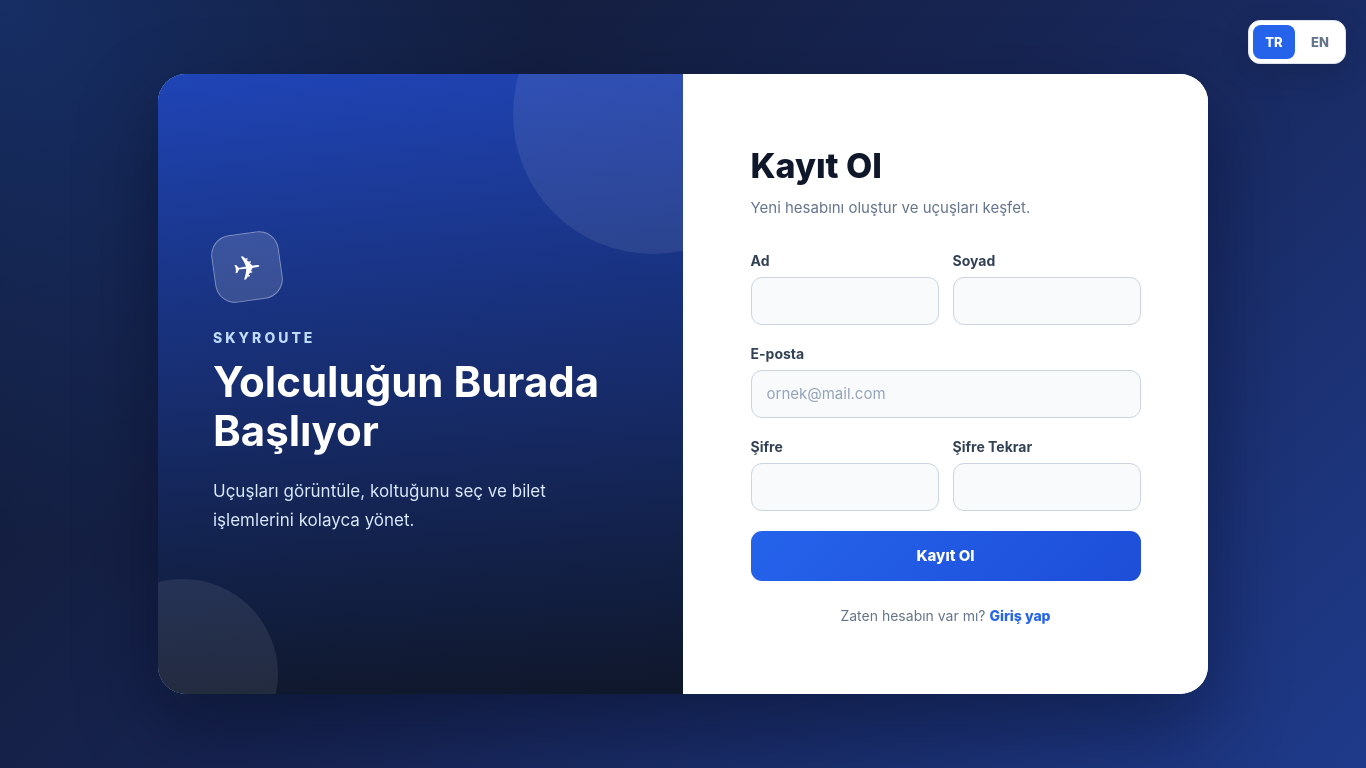
authentication flow › registers a user through the API and returns to login
Type "Umut" into the field labelled "Ad" at {"x": 844, "y": 300}, box [750,276,938,324]
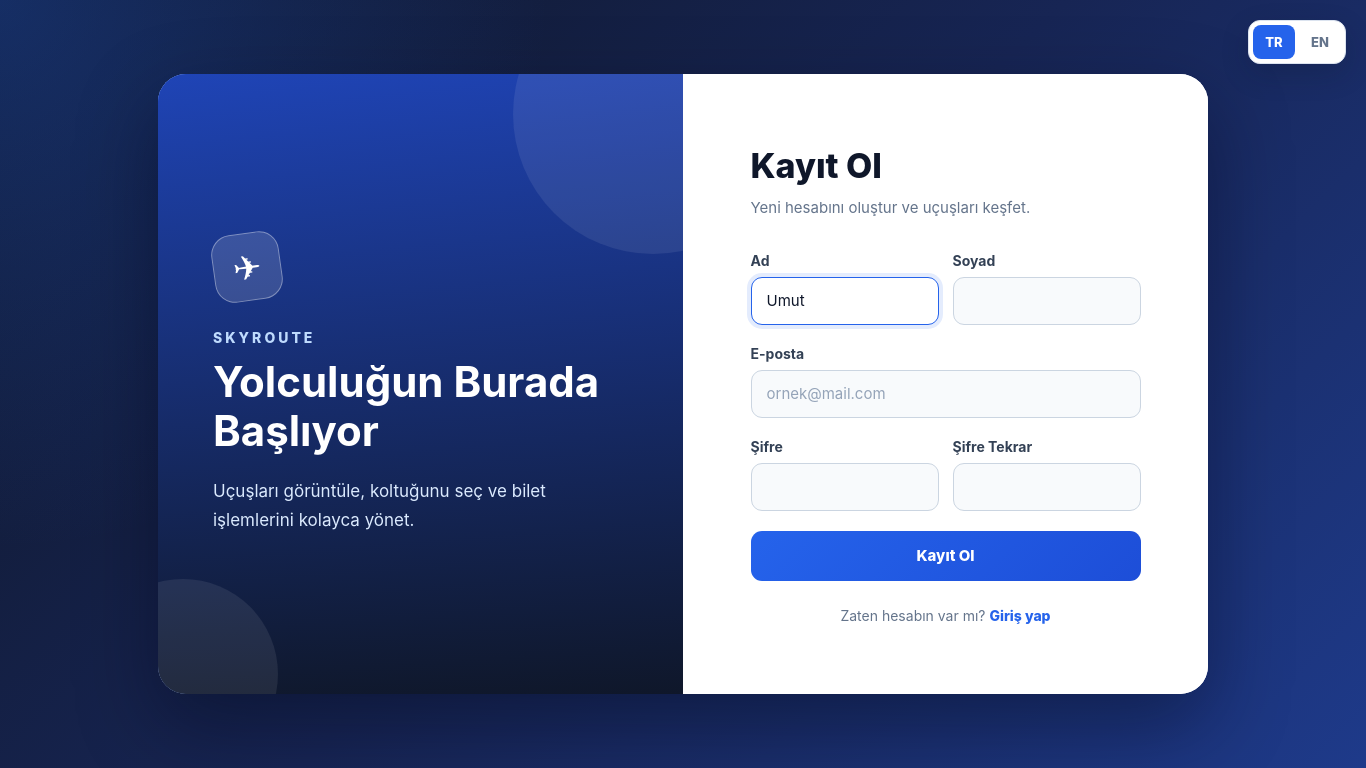
Type "Hata" into the field labelled "Soyad" at {"x": 1046, "y": 300}, box [952,276,1140,324]
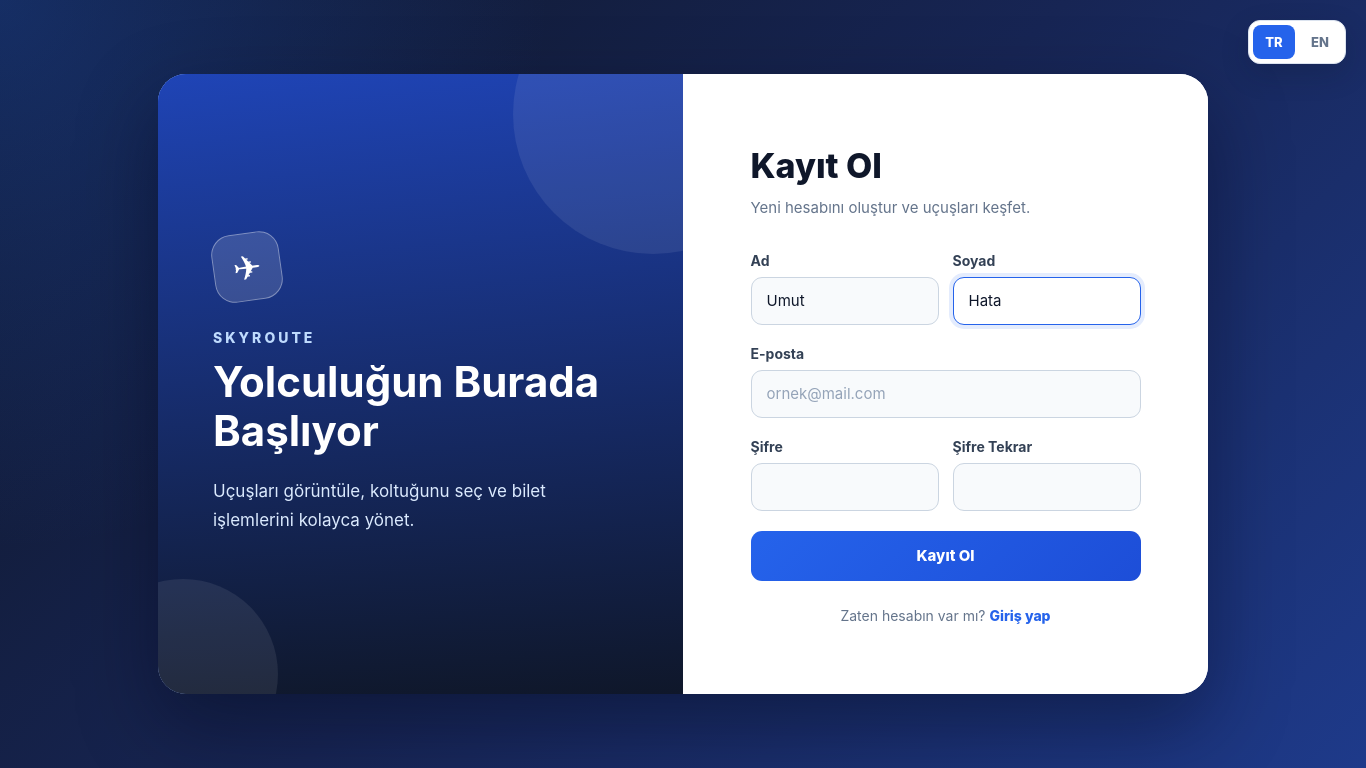
Type "umut@test.com" into the field labelled "E-posta" at {"x": 946, "y": 394}, box [750,370,1140,418]
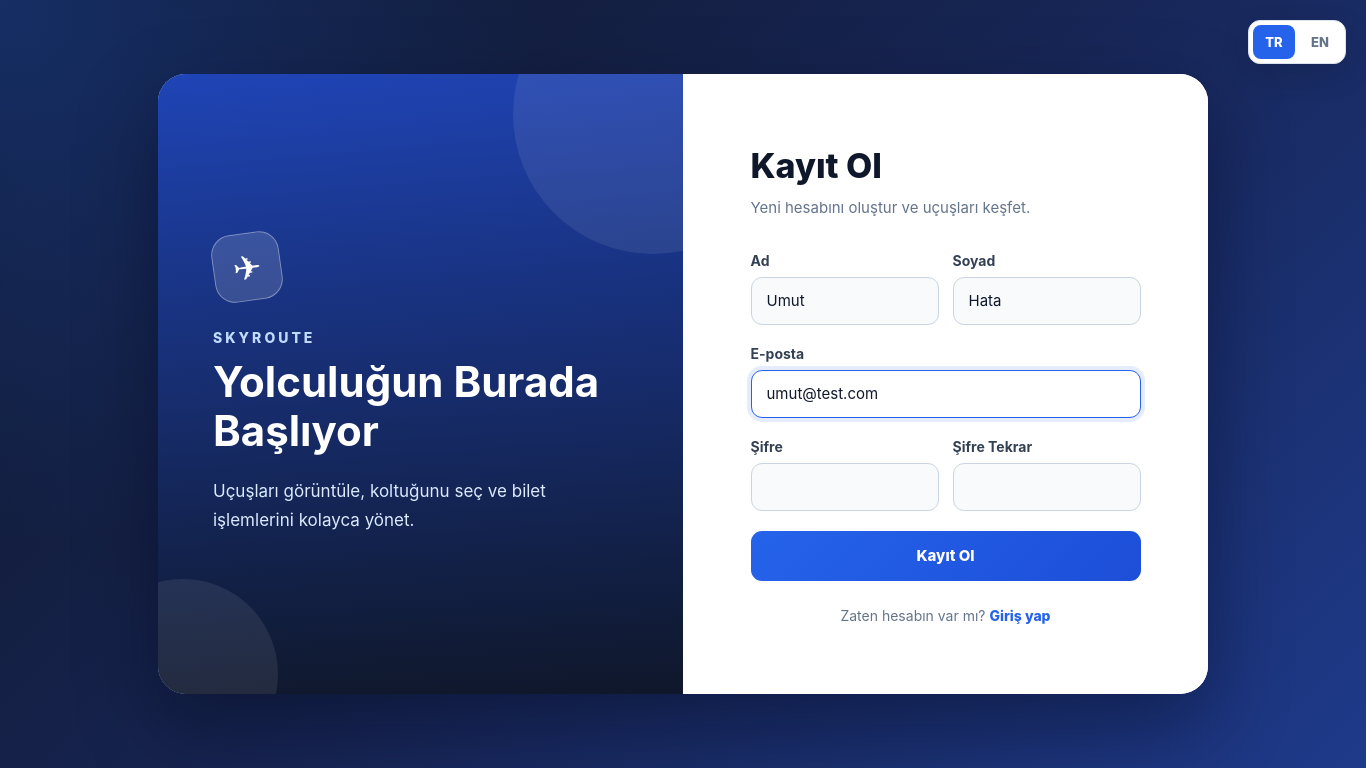
Type "123456" into the password field labelled "Şifre" at {"x": 844, "y": 486}, box [750,462,938,510]
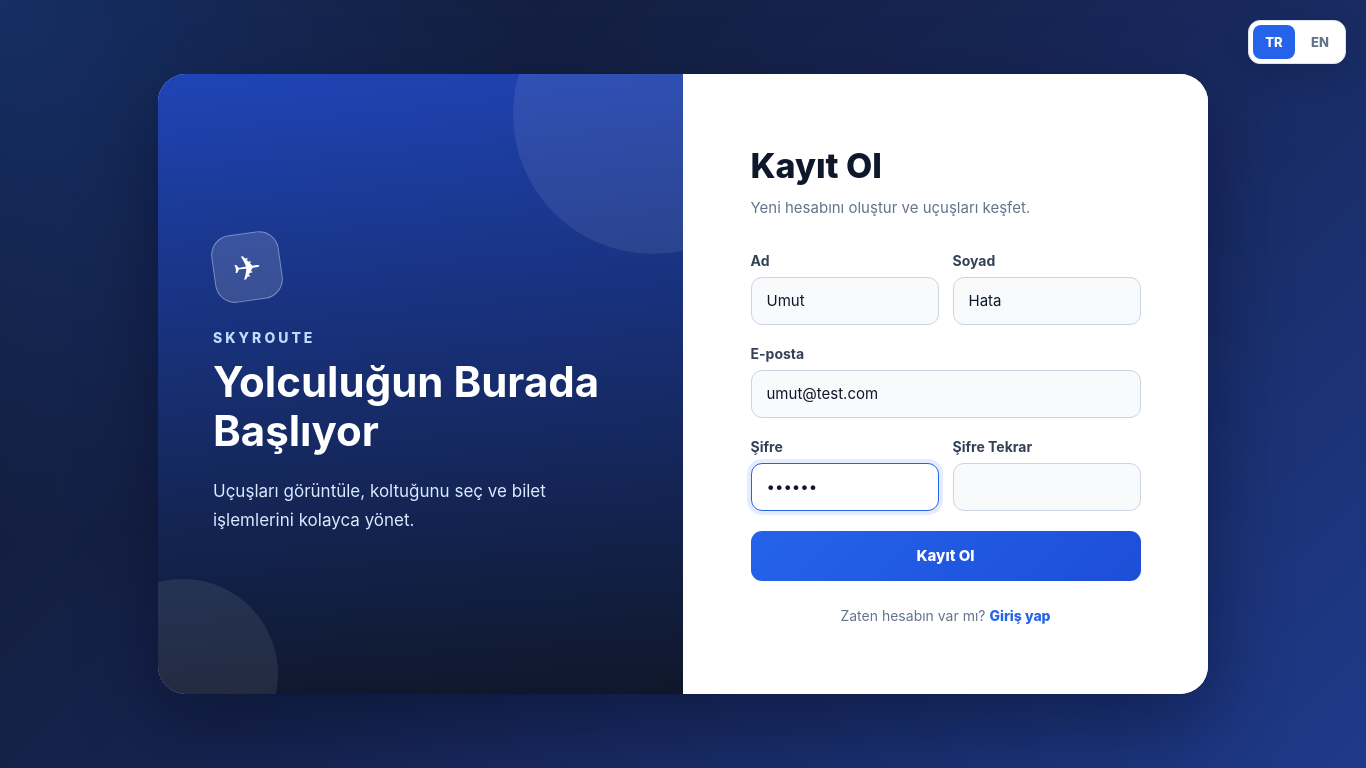
Type "123456" into the password field labelled "Şifre Tekrar" at {"x": 1046, "y": 486}, box [952,462,1140,510]
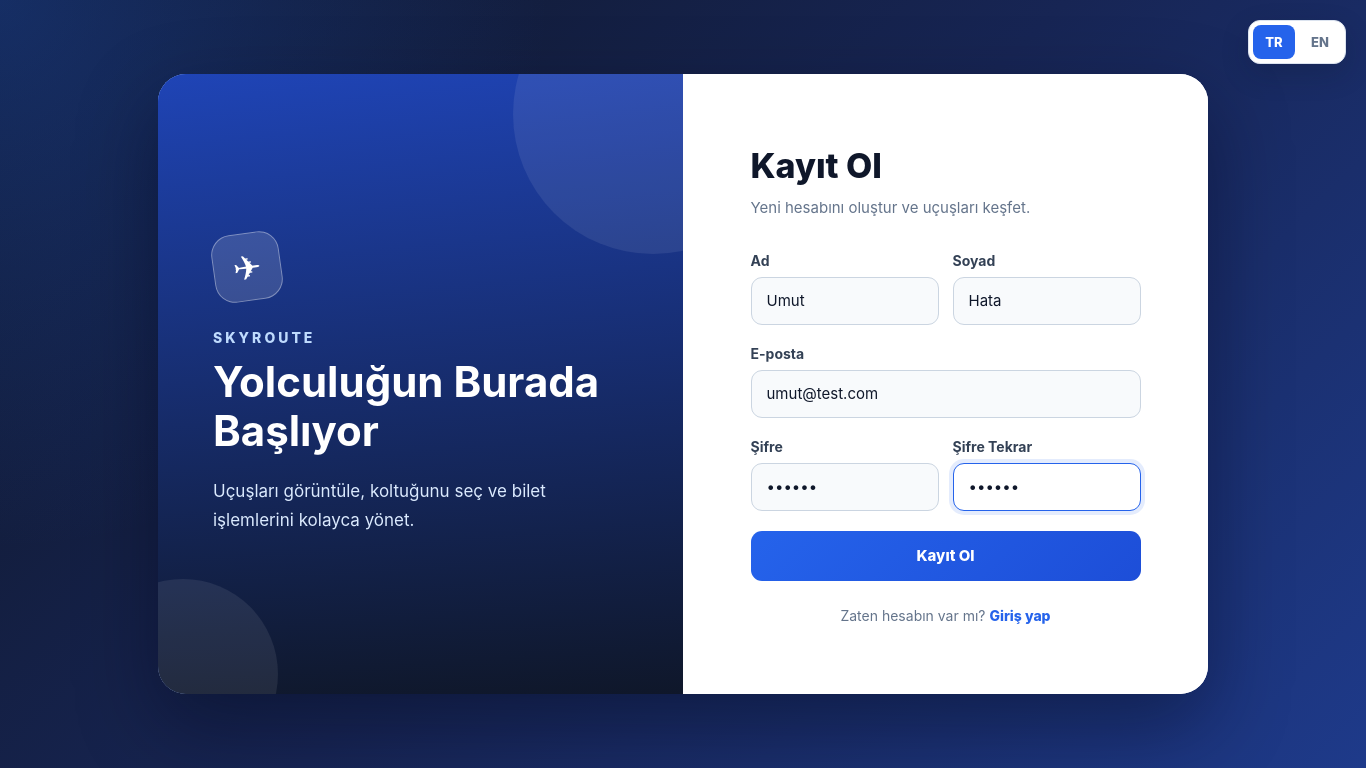
Click the button "Kayıt Ol" at {"x": 946, "y": 556}, box [750,530,1140,580]
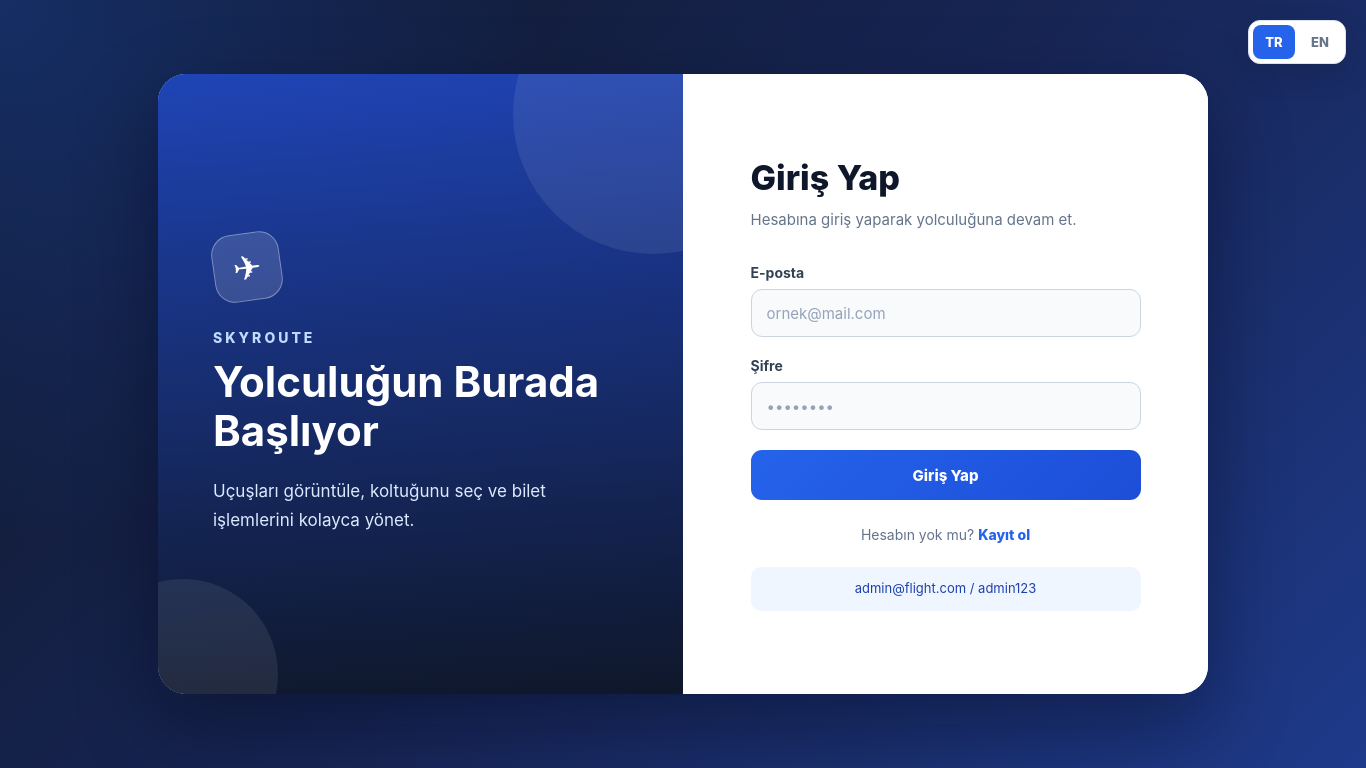
Now the heading "Giriş Yap" is shown, box [750,157,900,198]
